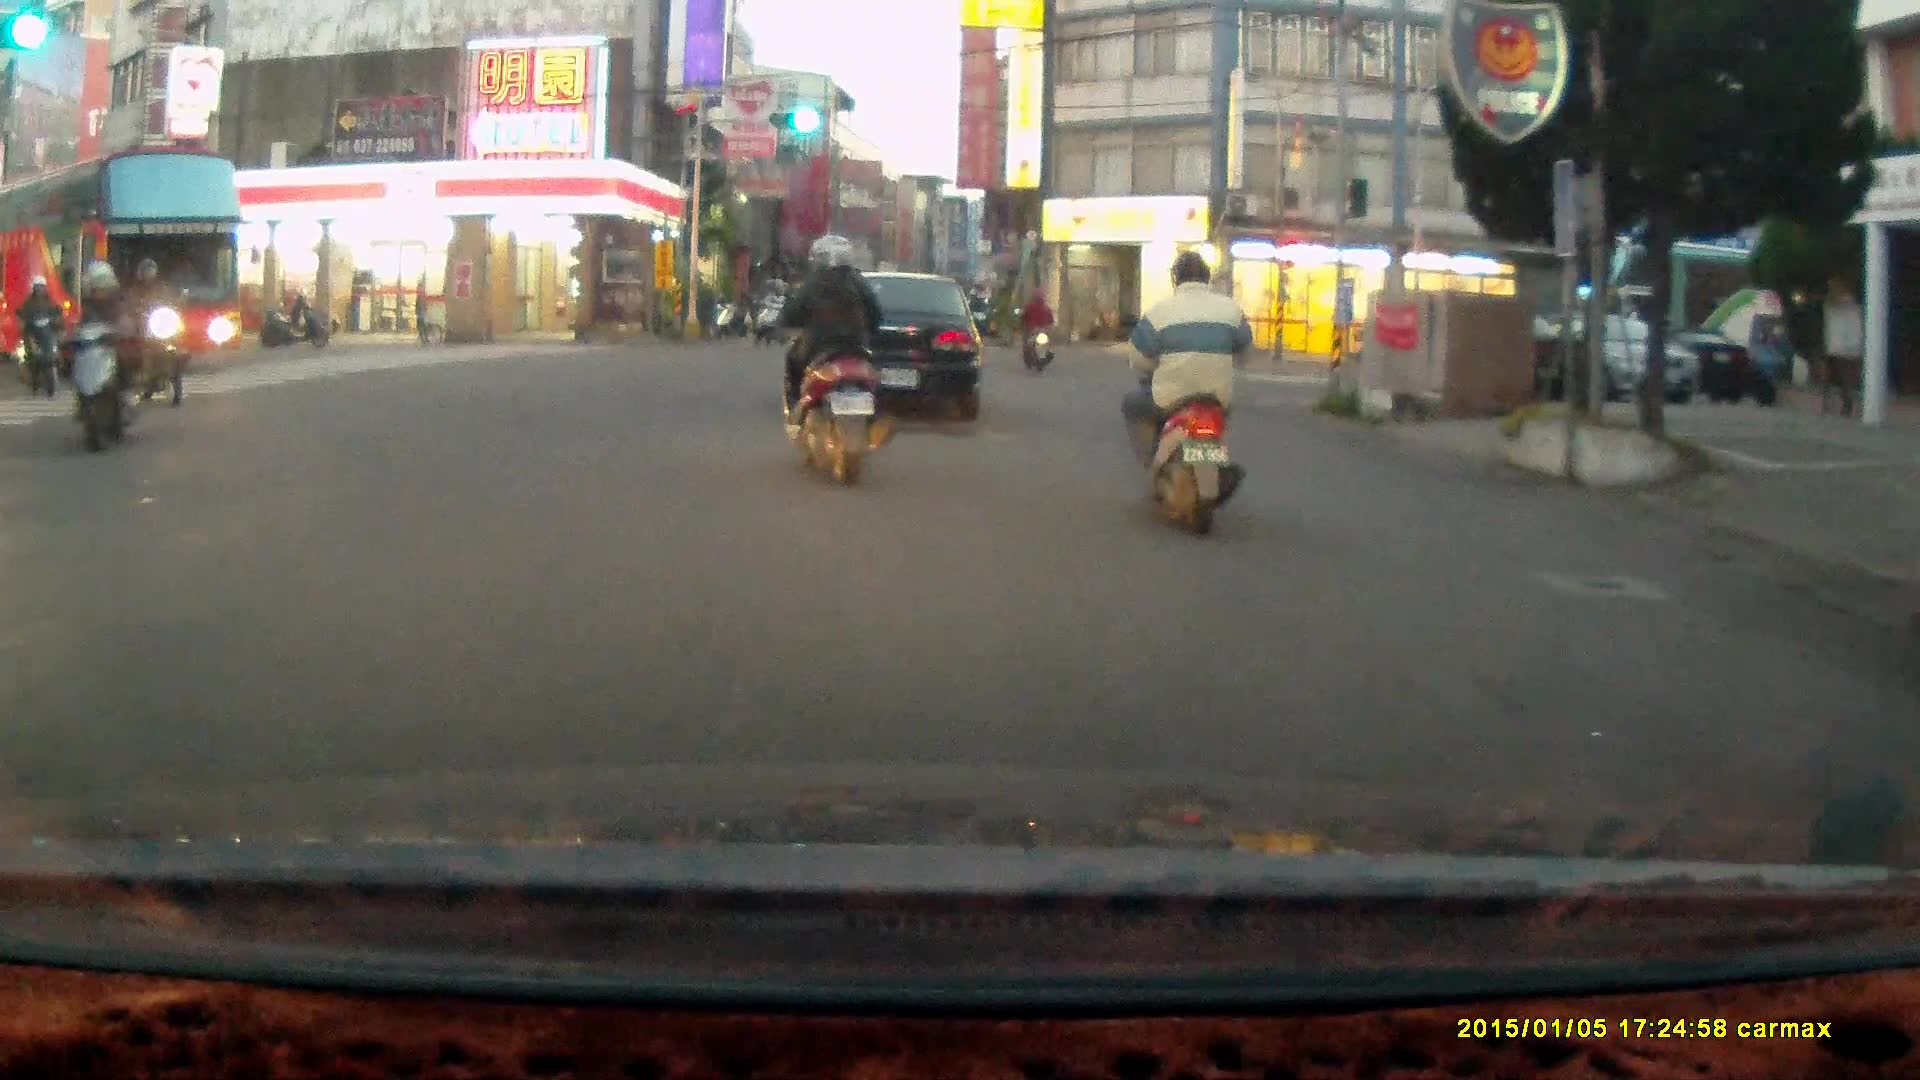rider: (1120, 253, 1246, 544), (769, 229, 900, 493), (57, 255, 140, 453), (112, 251, 180, 412), (14, 270, 62, 395), (1013, 291, 1053, 374), (756, 276, 794, 343)
vehicle: (1, 150, 239, 383), (1485, 310, 1705, 410)
